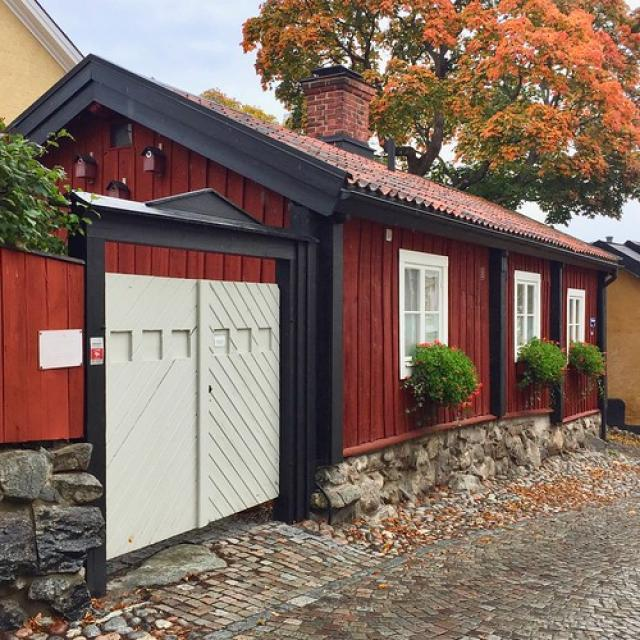building: (4, 51, 626, 574)
